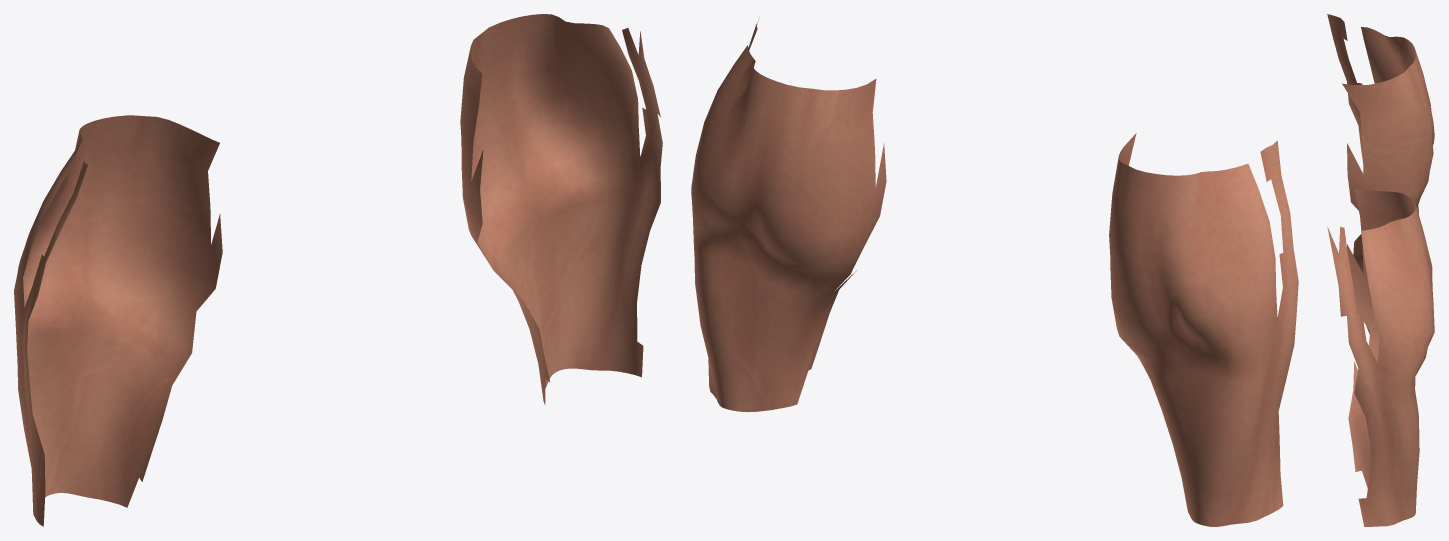
Rendered from calves.glb.
3 renders of one model, left to right at view 1: azimuth 30°, elevation 25°; view 2: azimuth 150°, elevation 25°; view 3: azimuth 270°, elevation 25°, orthographic. The views are drawn at different scales.
Parts seen in each view (by area): view 1: calves; view 2: calves; view 3: calves.
Part boxes in pixels (x1,y1,x2,y2): calves: [14, 14, 662, 526]; calves: [691, 17, 1298, 526]; calves: [1327, 14, 1434, 526].
Bounding box in the file's own units: 0.0539 × 0.031 × 0.0101.
1 material, 1 textured.
